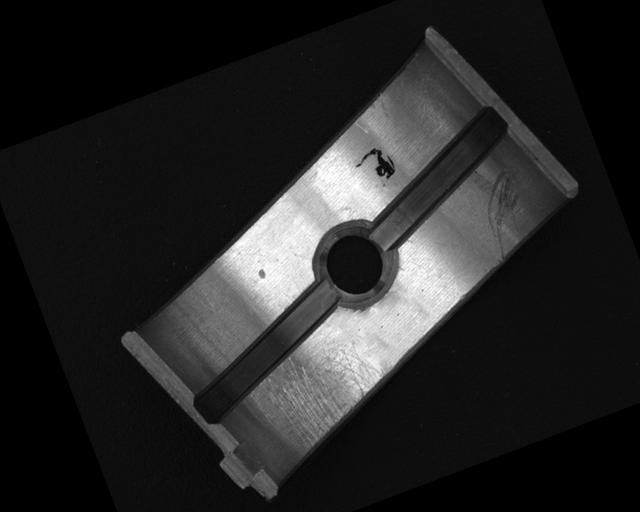blot: (349, 142, 399, 190)
bruise: (255, 266, 268, 281)
gap: (169, 277, 362, 428), (343, 101, 535, 252)
hole: (306, 215, 402, 311)
nick: (469, 164, 542, 262)
scratch: (239, 326, 403, 464)
